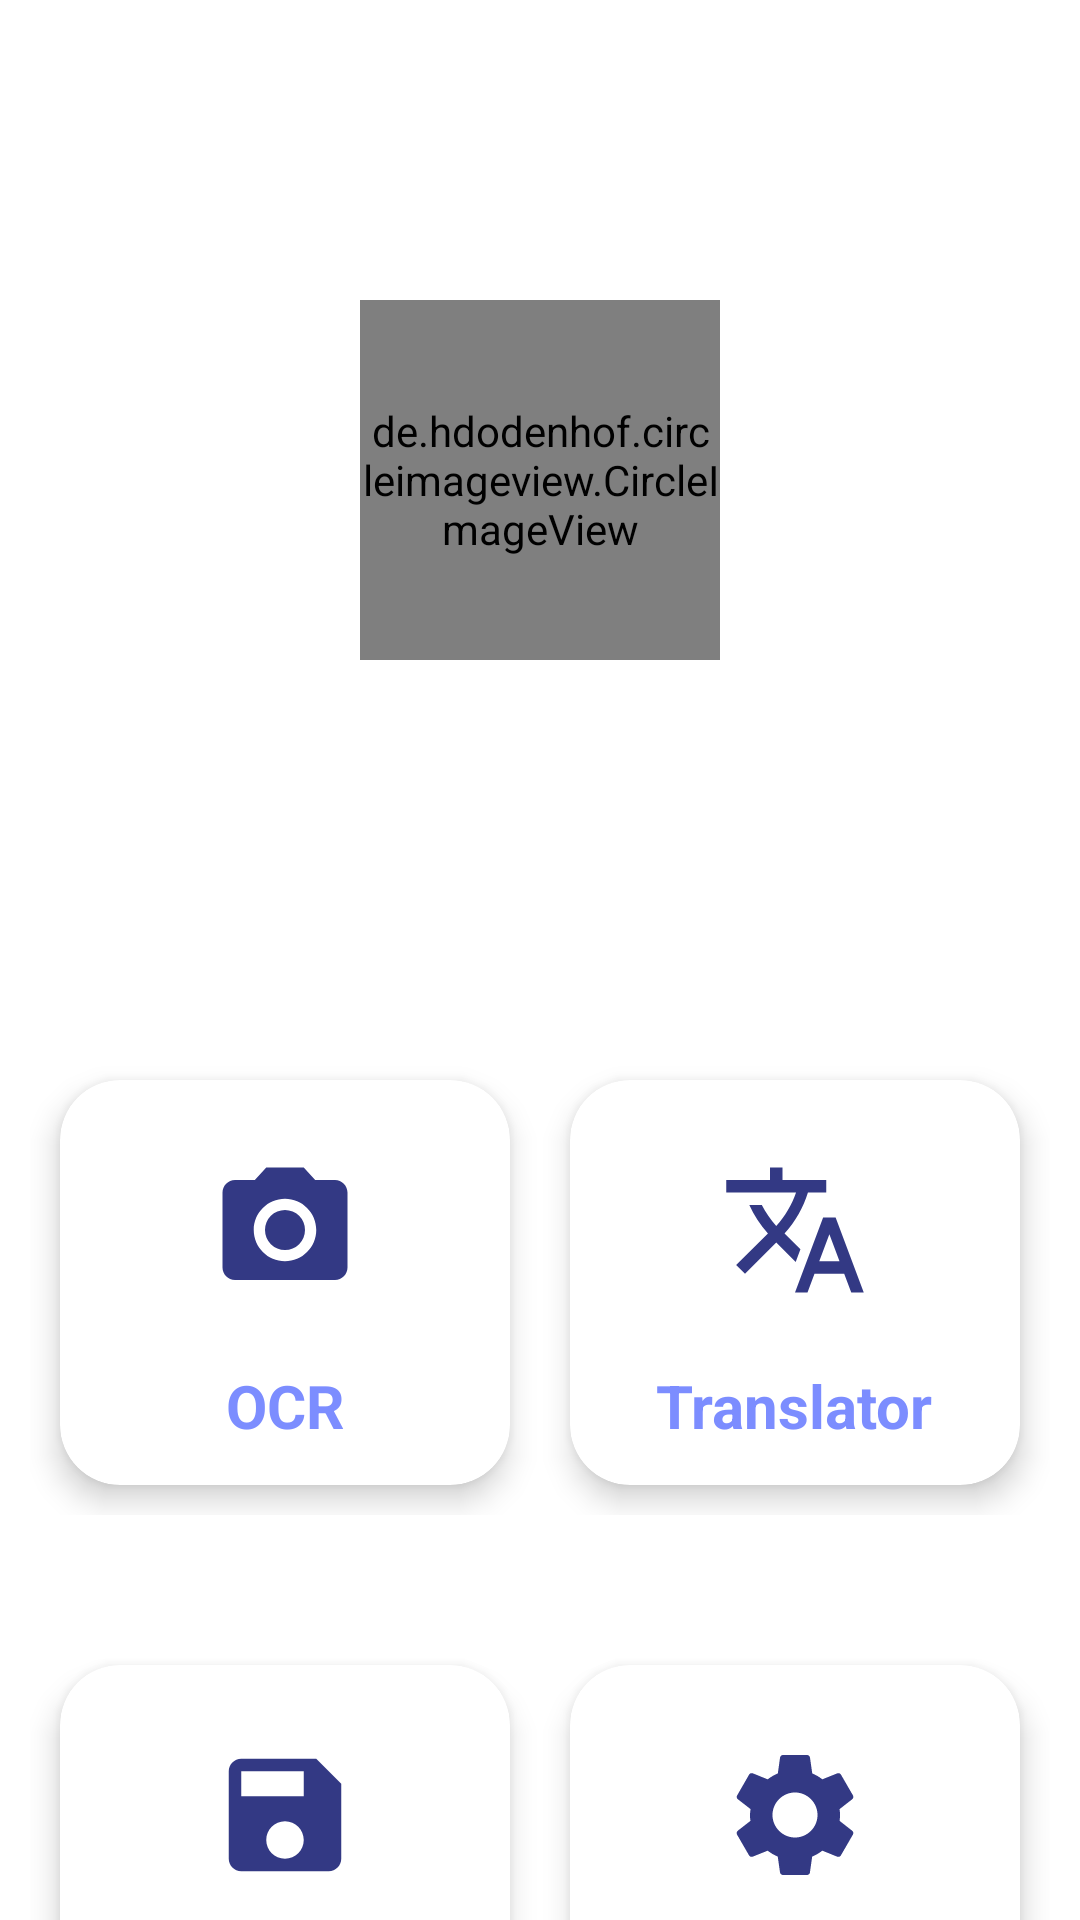

Icons on this 1080 x 1920 Android screen, each with the point to tap as (x,y):
camera: (285,1223)
save: (285,1815)
settings: (795,1815)
translate: (795,1230)
